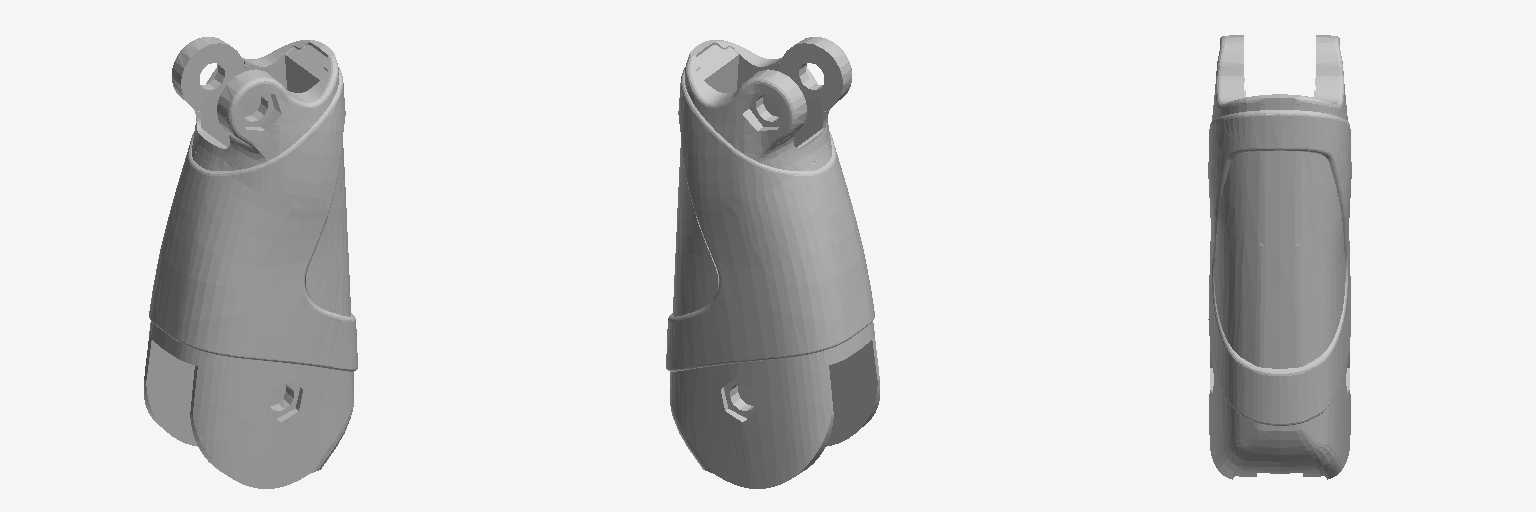
3 renders of one model, left to right at view 1: azimuth 30°, elevation 25°; view 2: azimuth 150°, elevation 25°; view 3: azimuth 270°, elevation 25°, orthographic.
Visible parts, largest first — view 1: Link19_R; view 2: Link19_R; view 3: Link19_R.
Part boxes in pixels (x1,y1,x2,y2): Link19_R: (144, 37, 357, 488); Link19_R: (666, 37, 879, 488); Link19_R: (1208, 35, 1351, 479).
Bounding box in the file's own units: 0.0213 × 0.0452 × 0.0143.